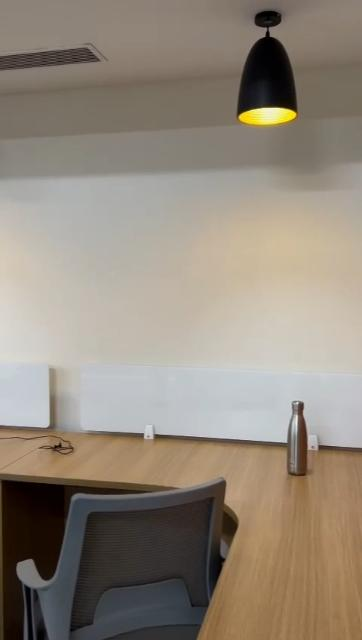object: (0, 468, 226, 640), (275, 401, 313, 482)
wall: (3, 79, 225, 357), (225, 136, 362, 358), (100, 0, 230, 134), (300, 16, 362, 136), (4, 2, 112, 42)
